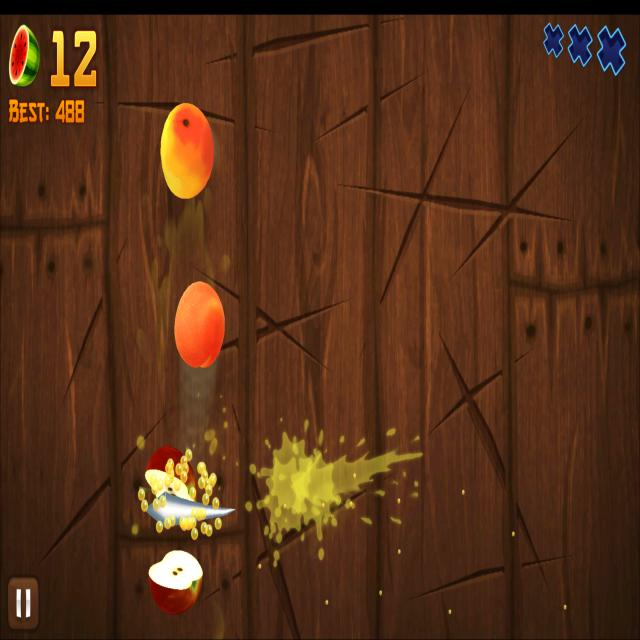fruit: (159, 101, 215, 200), (174, 280, 225, 370)
